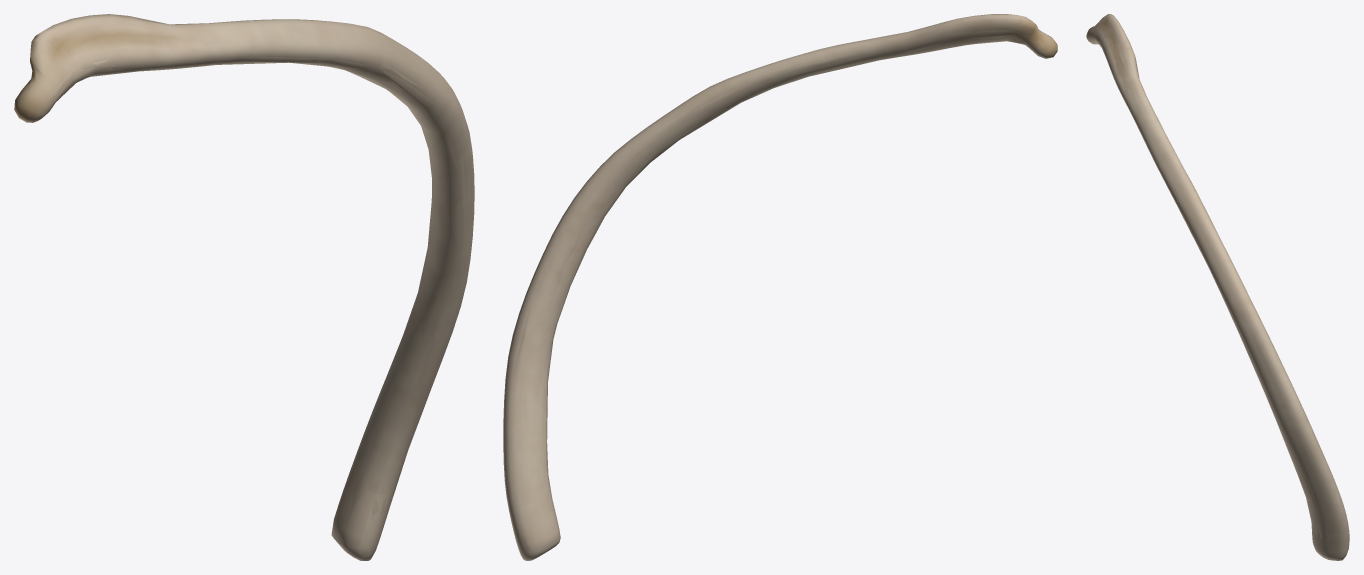
Rendered from Rib L15.fbx.
3 views of the same model, side by side, from view 1: azimuth 30°, elevation 25°; view 2: azimuth 150°, elevation 25°; view 3: azimuth 270°, elevation 25° (orthographic). The views are drawn at different scales.
Parts seen in each view (by area): view 1: Rib L15, Rib L15 low; view 2: Rib L15, Rib L15 low; view 3: Rib L15, Rib L15 low.
Part boxes in pixels (x1,y1,x2,y2): Rib L15: [14, 14, 474, 560]; Rib L15 low: [15, 16, 471, 554]; Rib L15: [503, 14, 1057, 560]; Rib L15 low: [508, 14, 1057, 560]; Rib L15: [1086, 14, 1349, 560]; Rib L15 low: [1087, 14, 1344, 558].
Size of the model in its own units: 26.85 by 32.44 by 18.76.
Materials: 1 (1 with a texture image).
